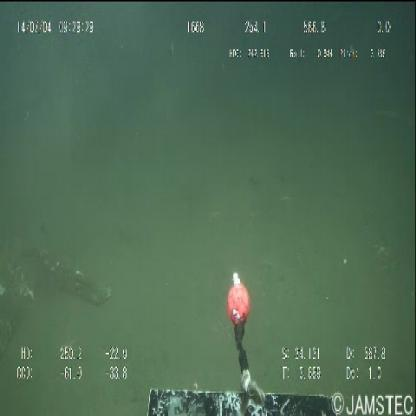Rác: (0, 250, 112, 368)
